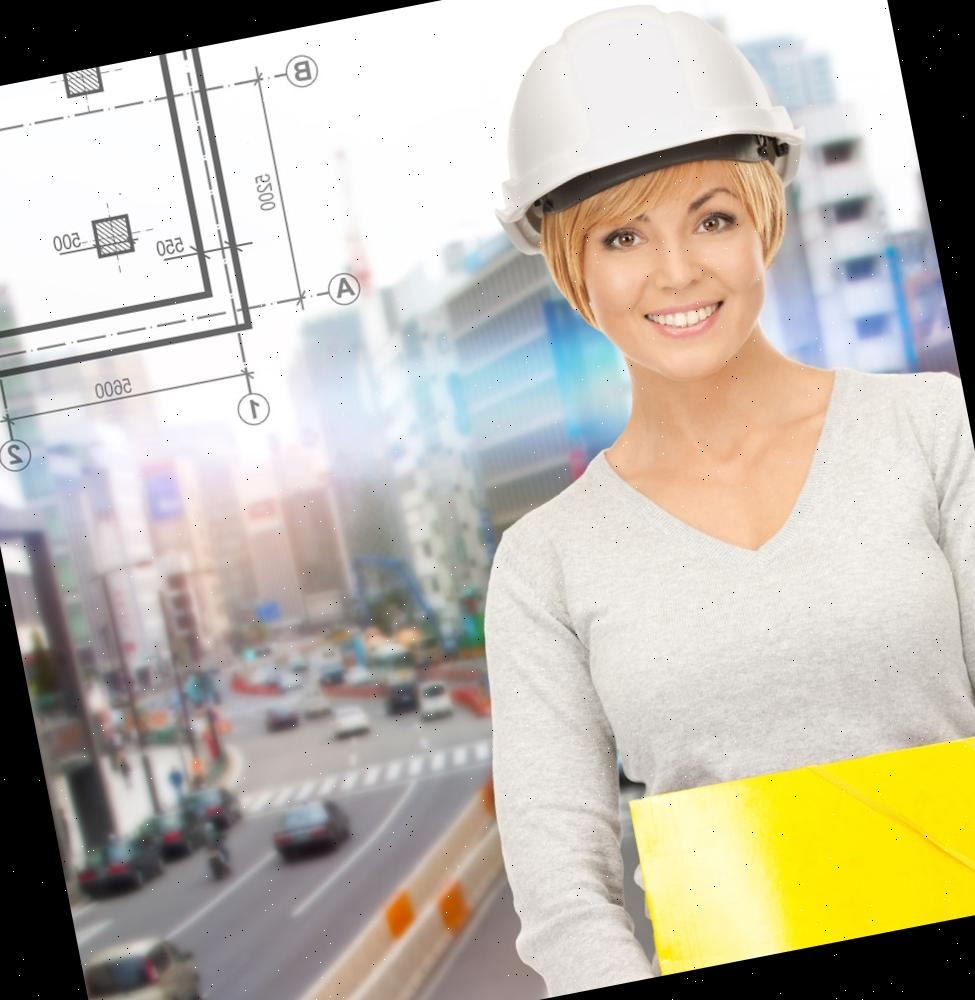helmet: (464, 0, 813, 225)
no_wear: (492, 373, 975, 816)
